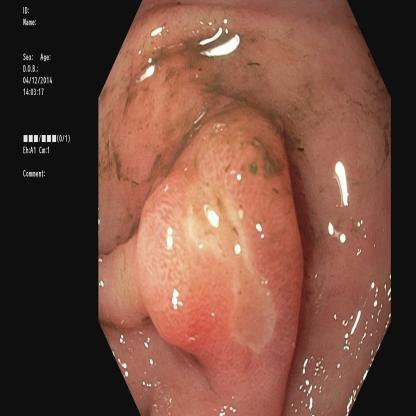Labels: (20, 1, 74, 190)
Polyps: (131, 154, 308, 380)
